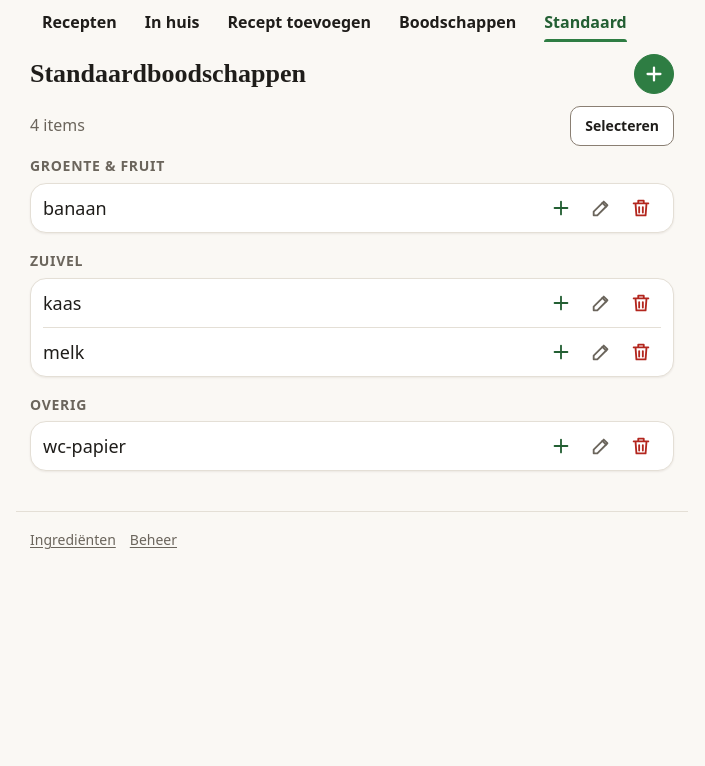
StandardItemsView › toevoegen › meldt een dubbele naam bij het veld en houdt de invoer
Click the button named "Item toevoegen" at point(654, 74), box [634, 54, 674, 94]
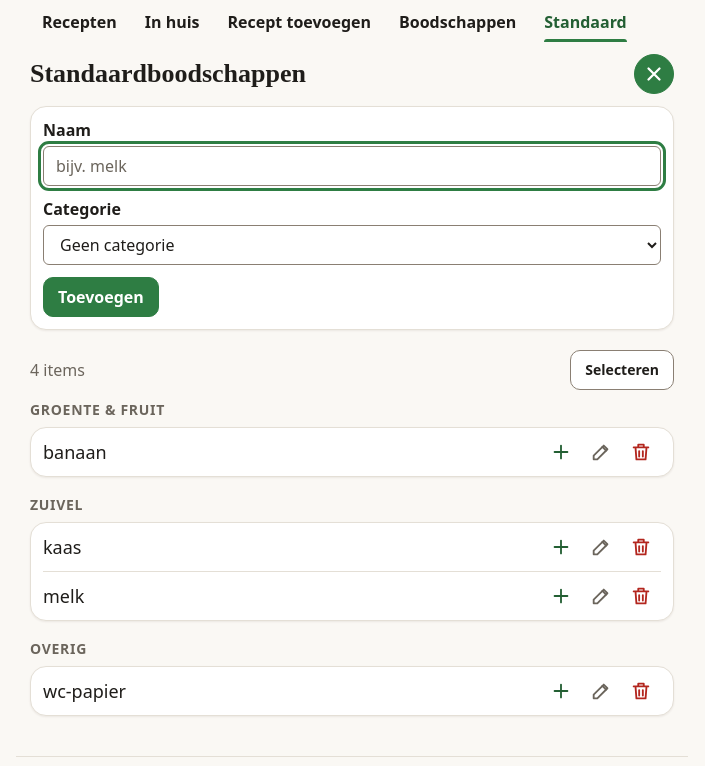
Type "Melk" into the field with class "name" at point(352, 166), box [43, 146, 661, 186]
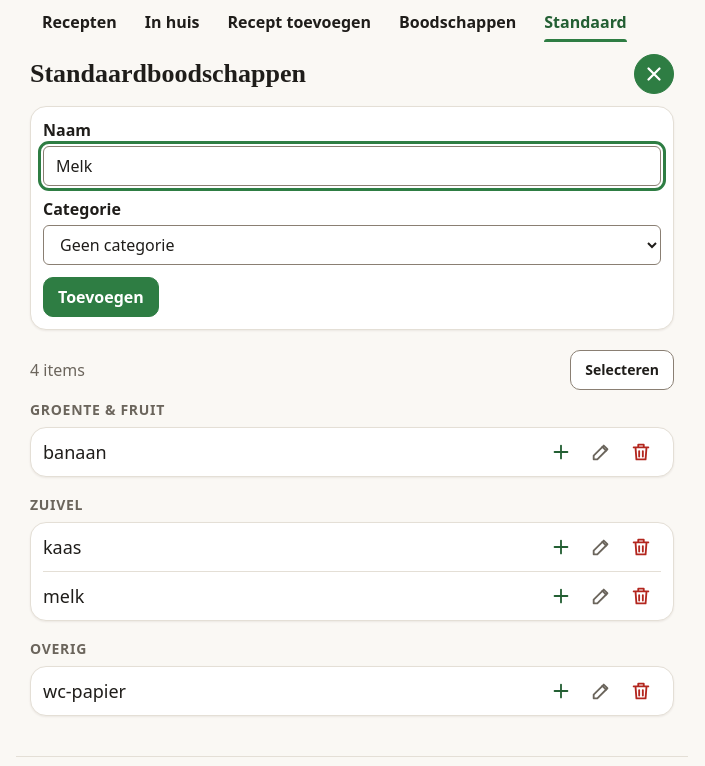
Submit the form, box [43, 119, 661, 317]
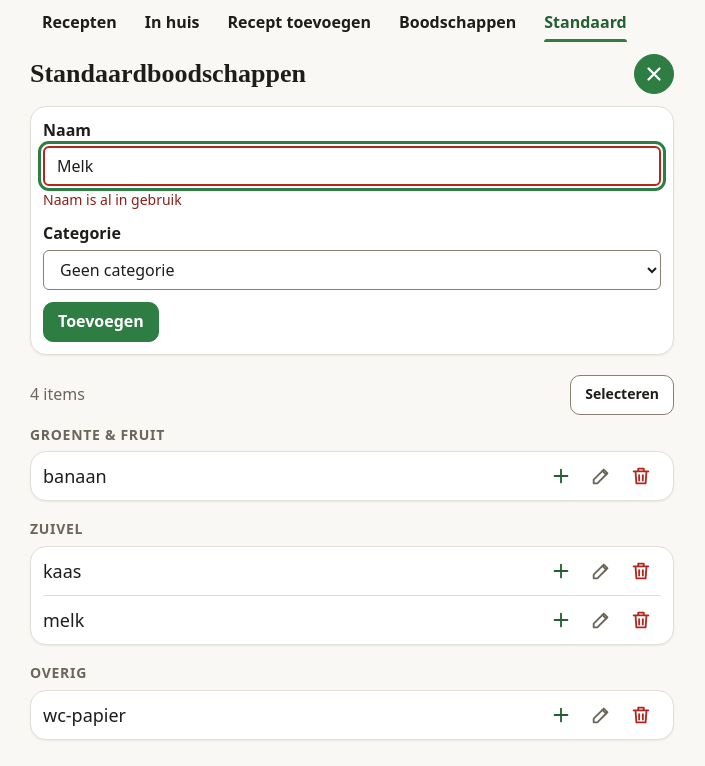
Result: the text with class "error" reads "Naam is al in gebruik" at [43, 190, 182, 209]
